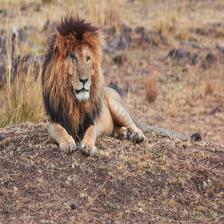Lion: (32, 13, 165, 155)
